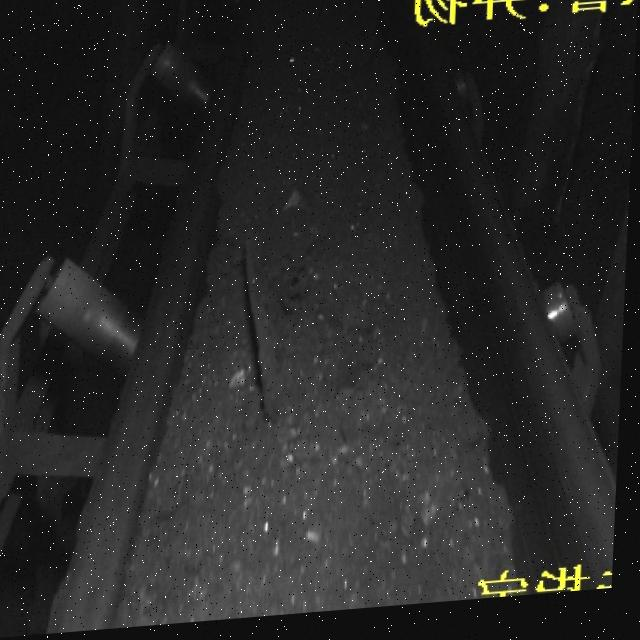bolt: (236, 230, 300, 430)
